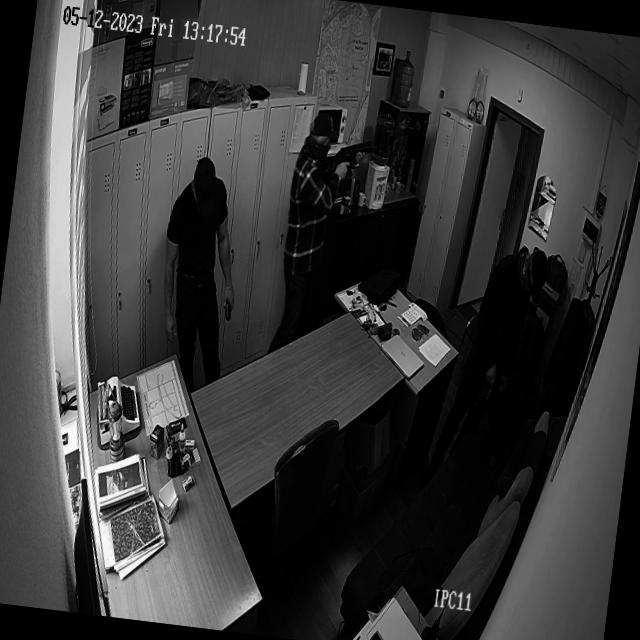gun: (314, 134, 378, 172)
person: (146, 152, 266, 382), (457, 220, 554, 472)
person with a gun: (273, 107, 367, 316)
